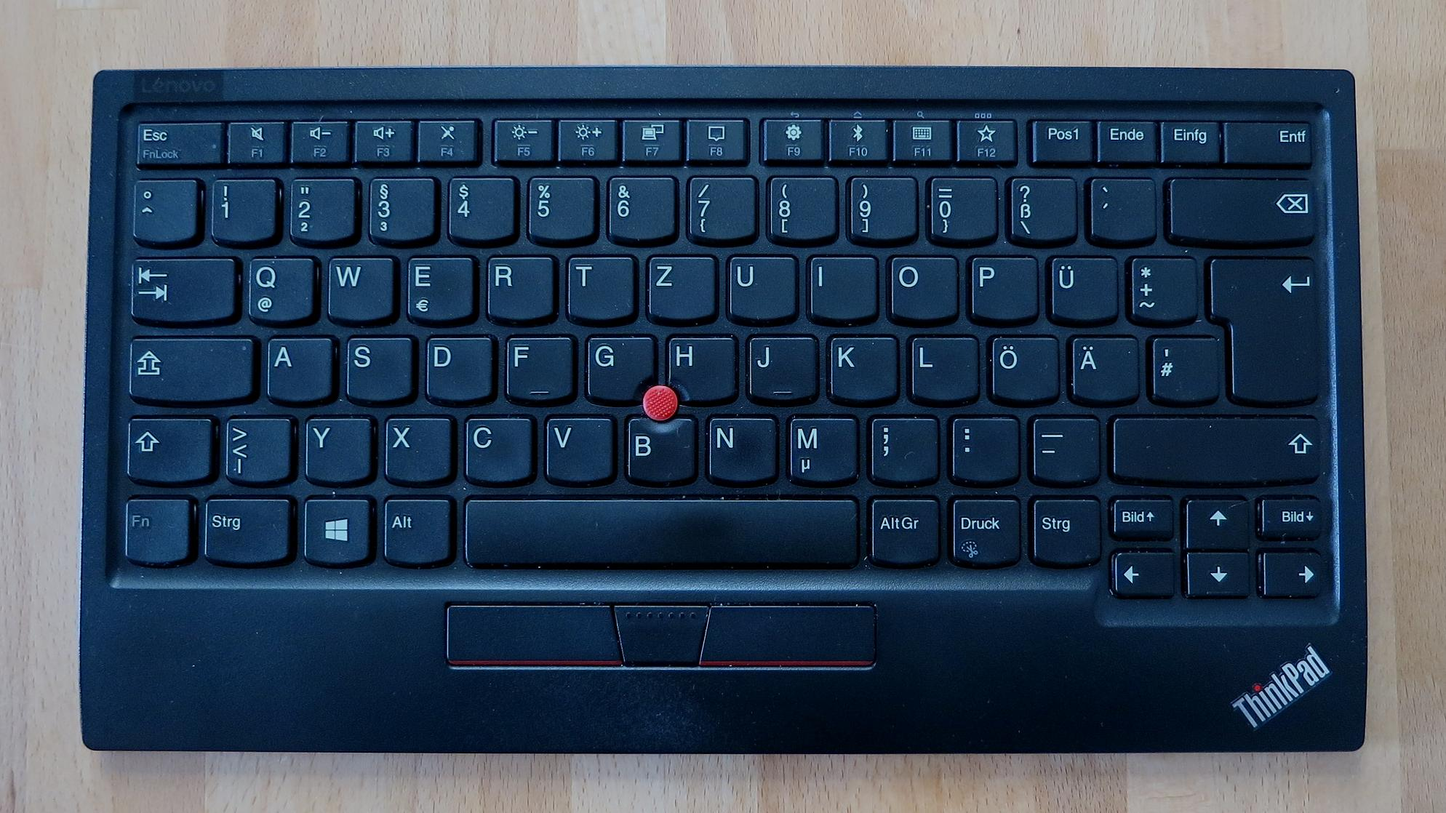0: (923, 172, 996, 241)
1: (209, 175, 276, 242)
2: (286, 174, 355, 241)
3: (364, 174, 436, 241)
4: (445, 172, 514, 241)
5: (523, 172, 595, 240)
6: (603, 172, 675, 241)
7: (684, 172, 755, 239)
8: (764, 172, 836, 241)
9: (844, 171, 916, 241)
a: (264, 333, 332, 401)
accent: (1085, 172, 1155, 240)
ae: (1067, 332, 1139, 402)
alt-left: (378, 493, 450, 564)
altgr-right: (866, 493, 938, 564)
b: (622, 412, 695, 482)
c: (461, 413, 532, 482)
caret: (129, 175, 196, 241)
comma: (865, 412, 937, 481)
d: (422, 332, 492, 402)
del: (1165, 173, 1317, 243)
e: (403, 252, 474, 322)
enter: (1206, 252, 1323, 404)
f: (502, 332, 572, 400)
g: (583, 331, 652, 401)
h: (663, 332, 735, 400)
hash: (1147, 332, 1218, 401)
i: (805, 252, 876, 320)
j: (744, 331, 815, 401)
k: (826, 332, 897, 401)
keyboard: (95, 63, 1349, 620)
l: (906, 332, 978, 401)
less: (223, 413, 292, 481)
m: (783, 413, 856, 482)
minus: (1026, 413, 1099, 482)
n: (703, 413, 775, 481)
o: (884, 252, 956, 321)
oe: (986, 332, 1058, 402)
p: (966, 252, 1037, 321)
plus: (1125, 252, 1197, 321)
point: (946, 412, 1018, 481)
q: (244, 254, 314, 324)
r: (483, 253, 554, 321)
s: (342, 332, 414, 402)
shift-left: (122, 413, 211, 481)
shift-lock: (124, 332, 254, 401)
shift-right: (1106, 411, 1323, 482)
space: (460, 494, 858, 565)
ss: (1004, 173, 1076, 241)
strg-left: (198, 494, 292, 564)
strg-right: (1026, 493, 1100, 564)
t: (564, 252, 634, 320)
tab: (127, 253, 234, 322)
u: (724, 252, 796, 321)
ue: (1045, 252, 1117, 323)
v: (542, 413, 613, 482)
w: (324, 252, 394, 321)
x: (382, 413, 452, 482)
y: (303, 414, 372, 482)
z: (644, 252, 715, 321)
